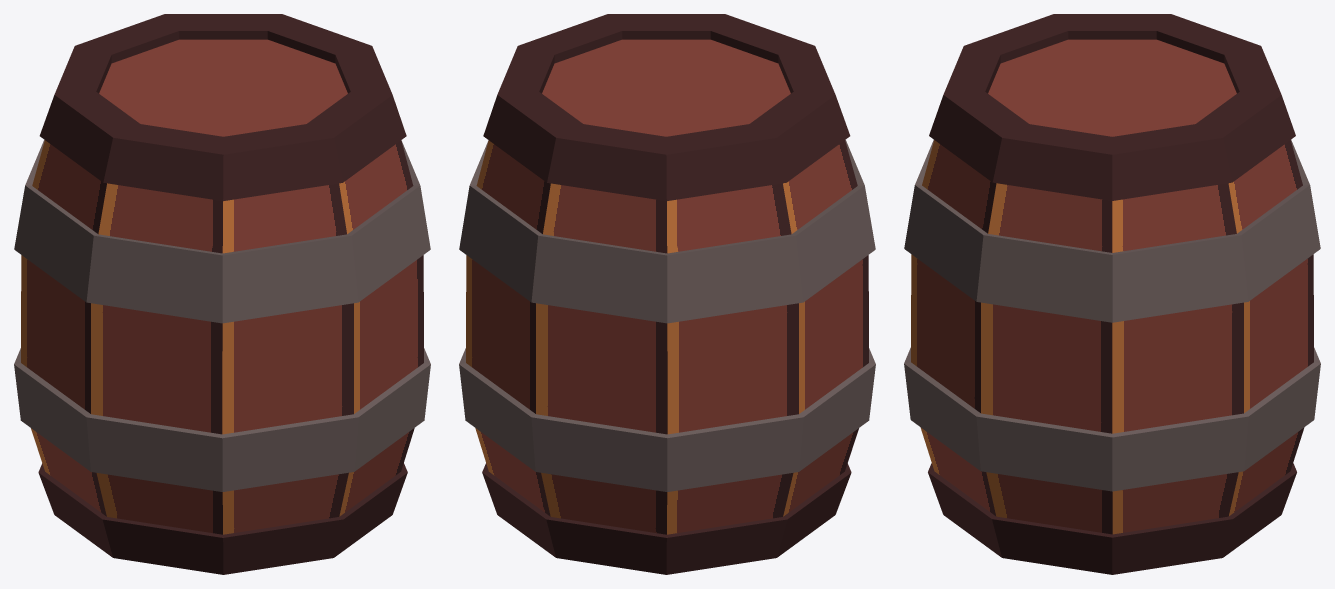
File: wooden_barrel.glb
The picture shows the model from 3 angles, left to right: view 1: azimuth 30°, elevation 25°; view 2: azimuth 150°, elevation 25°; view 3: azimuth 270°, elevation 25°; orthographic projection.
Bounding box in the file's own units: 3.37 × 3.8 × 3.42.
1 material, 1 textured.
